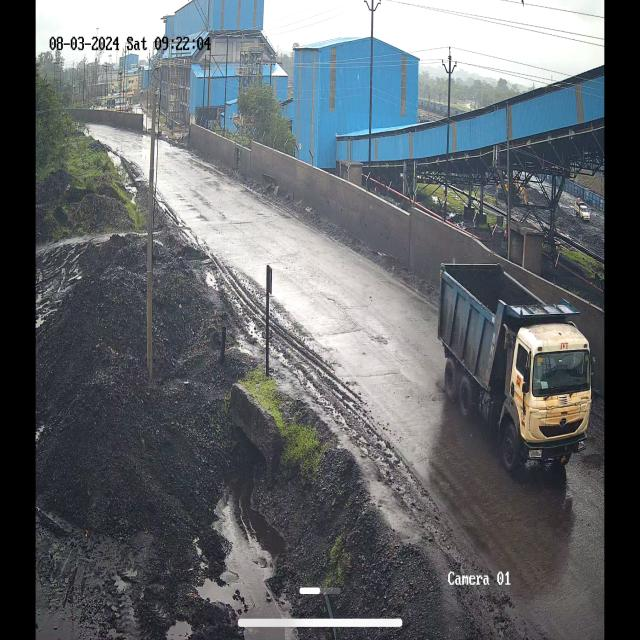dump_truck: (434, 244, 593, 485)
